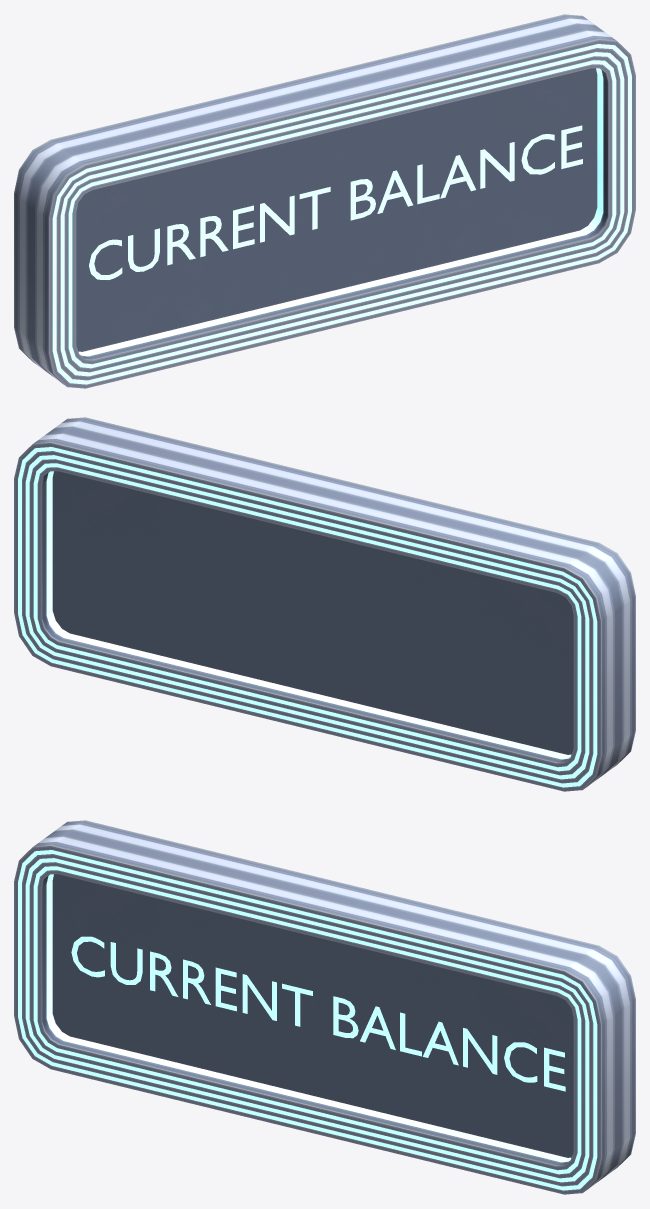
The model's file is obj_balance.gltf.
3 renders of one model, top to bottom at view 1: azimuth 30°, elevation 25°; view 2: azimuth 150°, elevation 25°; view 3: azimuth 330°, elevation 25°, orthographic.
Parts seen in each view (by area): view 1: obj_balance; view 2: obj_balance; view 3: obj_balance.
Boxes of the visible parts, bbox=[...] form: obj_balance: bbox=[14, 14, 635, 388]; obj_balance: bbox=[14, 417, 635, 791]; obj_balance: bbox=[14, 820, 635, 1194].
Size of what is drawn, in the model's own units: 4.27 by 1.55 by 0.439.
Materials: 2 (1 with a texture image).
